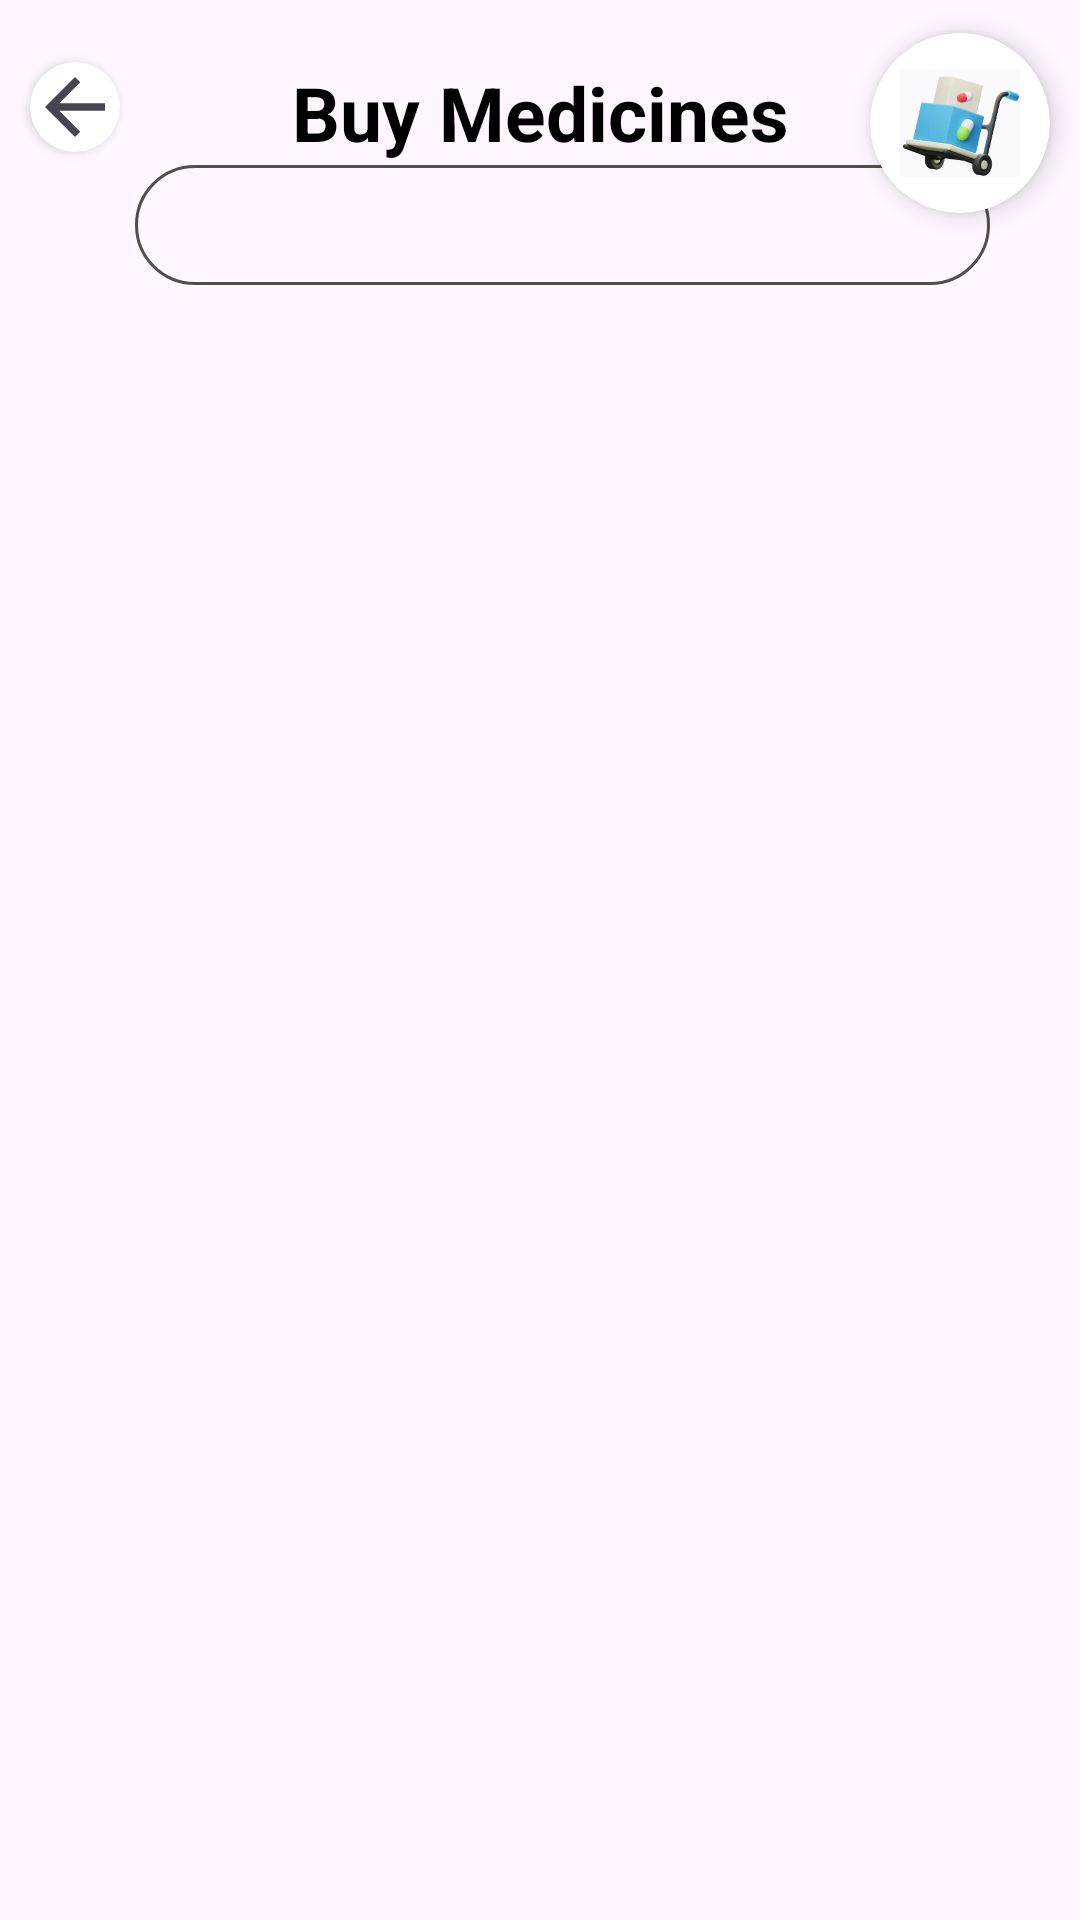

Icons on this 1080x1920 Android screen, each with its box as (x1, y1, x2, y2):
backbutton: (30, 62, 120, 152)
